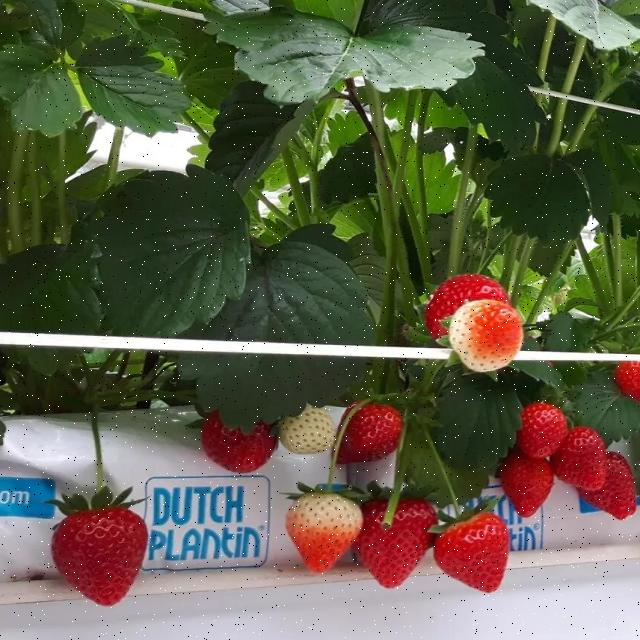Ripe Strawberry: (38, 476, 155, 609), (418, 259, 526, 378), (362, 497, 437, 600), (446, 496, 509, 615), (206, 399, 278, 481), (336, 400, 400, 471), (483, 459, 553, 518), (556, 417, 608, 493), (598, 444, 640, 527), (512, 397, 567, 454), (613, 356, 640, 395)
